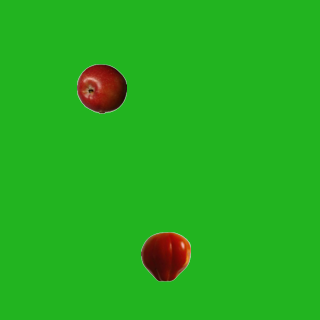Apple Braeburn: (76, 63, 126, 113)
Tomato 1: (140, 231, 190, 281)
